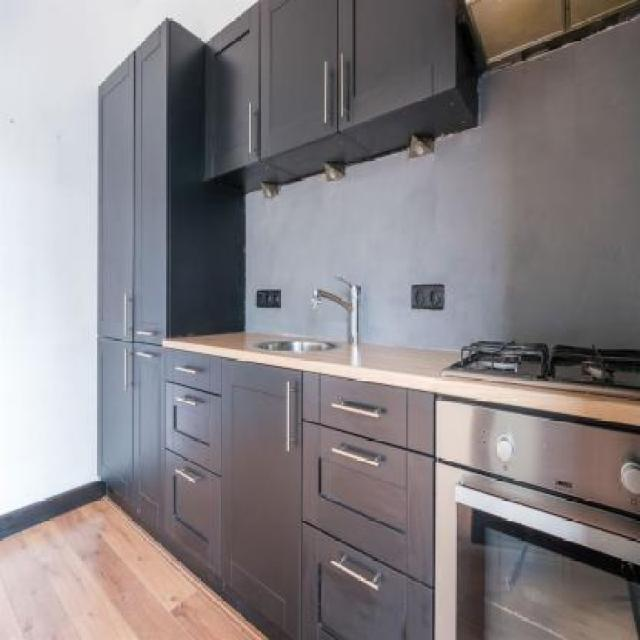floor: (0, 487, 271, 640)
